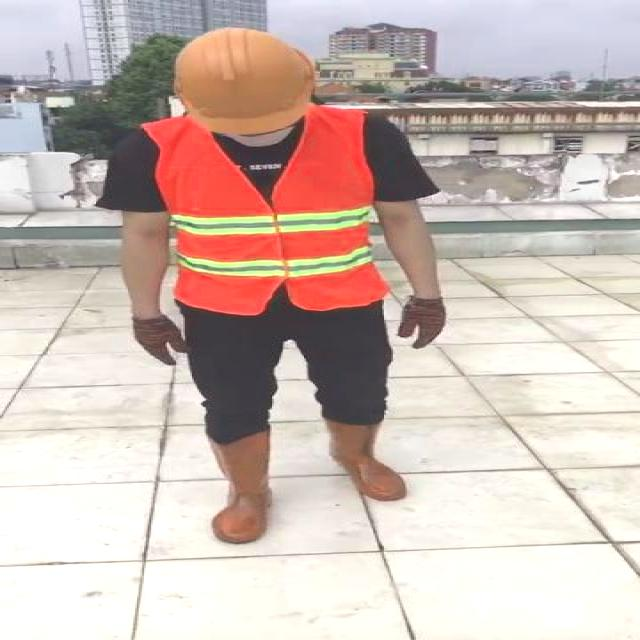boots: (206, 431, 274, 546), (322, 414, 407, 501)
hand_glove: (132, 313, 188, 366), (398, 296, 446, 351)
head_helmet: (162, 28, 322, 134)
person: (110, 30, 470, 539)
vest: (148, 110, 388, 316)
